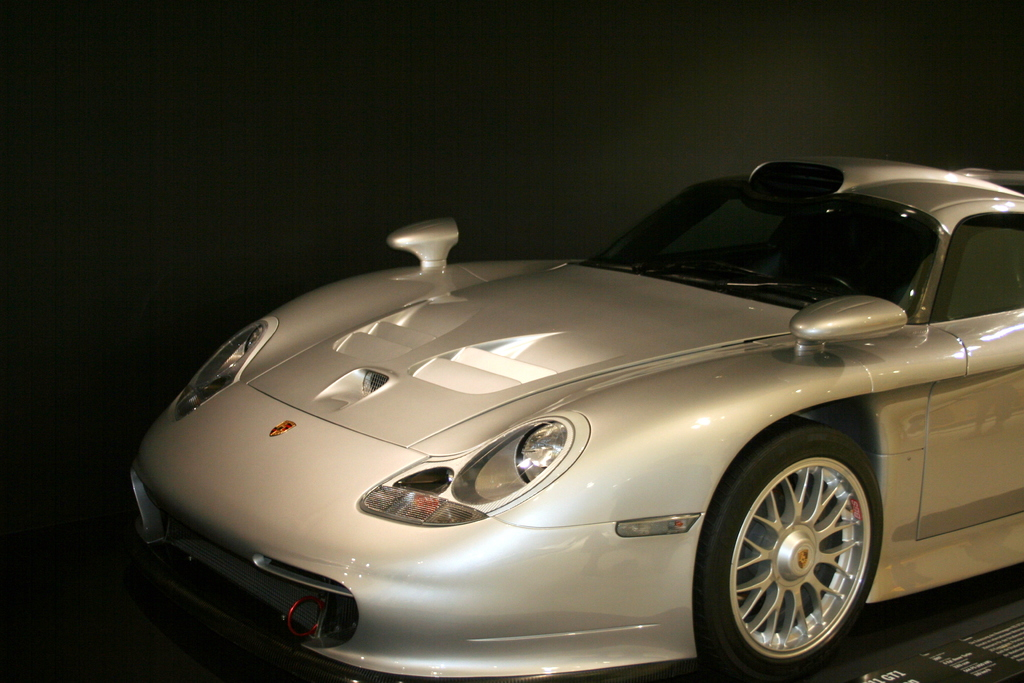Car: (129, 155, 1024, 682)
